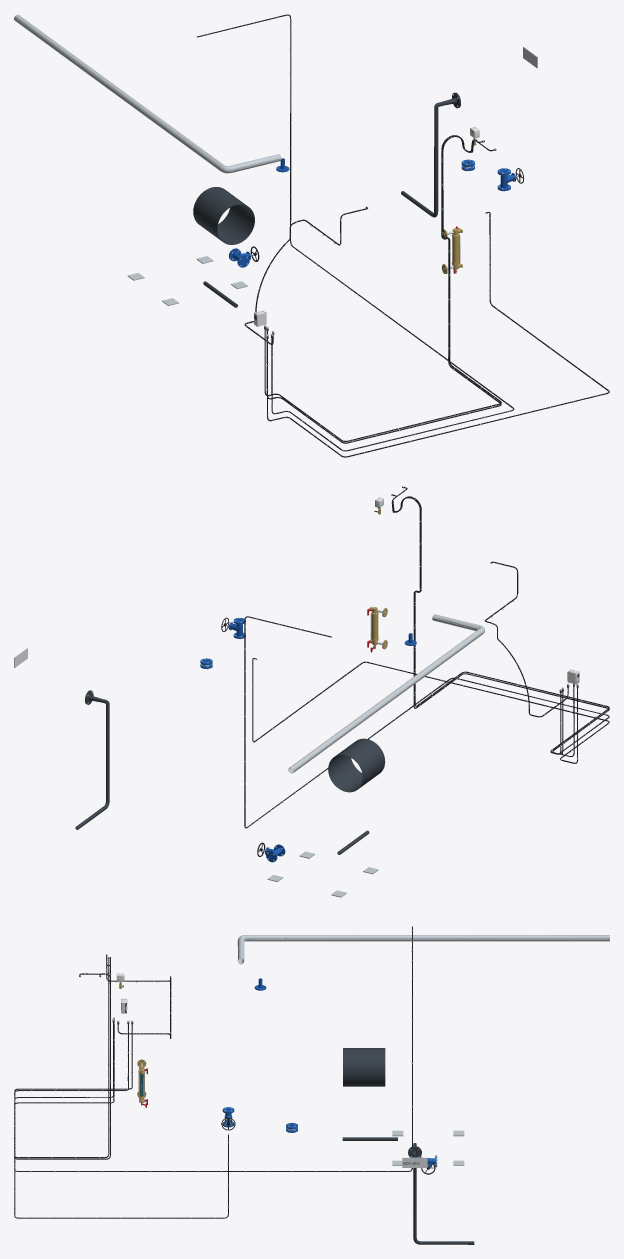
3 views of the same model, one above another, from view 1: azimuth 30°, elevation 25°; view 2: azimuth 150°, elevation 25°; view 3: azimuth 270°, elevation 25° (orthographic). The views are drawn at different scales.
Visible parts, largest first — view 1: flue_spacer / dark, safety_vent_1 / steel, mod_eco_drive_cable / black, wiring_pressure_switch_2 / black, wiring_pump_1 / black, wiring_pressure_switch_1 / black, bottom_to_bdv / dark; view 2: flue_spacer / dark, safety_vent_1 / steel, mod_eco_drive_cable / black, wiring_pressure_switch_1 / black, wiring_pump_1 / black, wiring_pressure_switch_2 / black, bottom_to_bdv / dark; view 3: safety_vent_1 / steel, flue_spacer / dark, wiring_pressure_switch_2 / black, wiring_pump_1 / black, mod_eco_drive_cable / black, bottom_to_bdv / dark, wiring_pressure_switch_1 / black.
Part boxes in pixels (x1=…): flue_spacer / dark: x1=193, y1=187, x2=254, y2=244; safety_vent_1 / steel: x1=14, y1=14, x2=281, y2=173; mod_eco_drive_cable / black: x1=197, y1=14, x2=514, y2=451; wiring_pressure_switch_2 / black: x1=264, y1=135, x2=501, y2=441; wiring_pump_1 / black: x1=267, y1=212, x2=609, y2=457; wiring_pressure_switch_1 / black: x1=266, y1=135, x2=501, y2=443; bottom_to_bdv / dark: x1=401, y1=92, x2=460, y2=217; flue_spacer / dark: x1=328, y1=738, x2=385, y2=792; safety_vent_1 / steel: x1=288, y1=614, x2=484, y2=773; mod_eco_drive_cable / black: x1=244, y1=616, x2=609, y2=828; wiring_pressure_switch_1 / black: x1=391, y1=487, x2=609, y2=754; wiring_pump_1 / black: x1=252, y1=658, x2=609, y2=763; wiring_pressure_switch_2 / black: x1=392, y1=494, x2=609, y2=754; bottom_to_bdv / dark: x1=75, y1=690, x2=109, y2=829; safety_vent_1 / steel: x1=237, y1=935, x2=609, y2=964; flue_spacer / dark: x1=343, y1=1048, x2=385, y2=1086; wiring_pressure_switch_2 / black: x1=14, y1=957, x2=132, y2=1158; wiring_pump_1 / black: x1=14, y1=1023, x2=228, y2=1218; mod_eco_drive_cable / black: x1=14, y1=926, x2=412, y2=1171; bottom_to_bdv / dark: x1=408, y1=1143, x2=474, y2=1244; wiring_pressure_switch_1 / black: x1=14, y1=957, x2=128, y2=1159.
Size of the model in its own units: 5.3 by 2.96 by 7.03.
